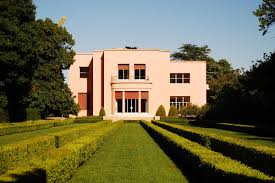serralves: (69, 48, 208, 116)
